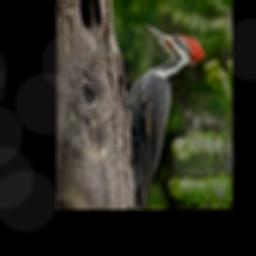Woodpecker: (124, 24, 205, 209)
